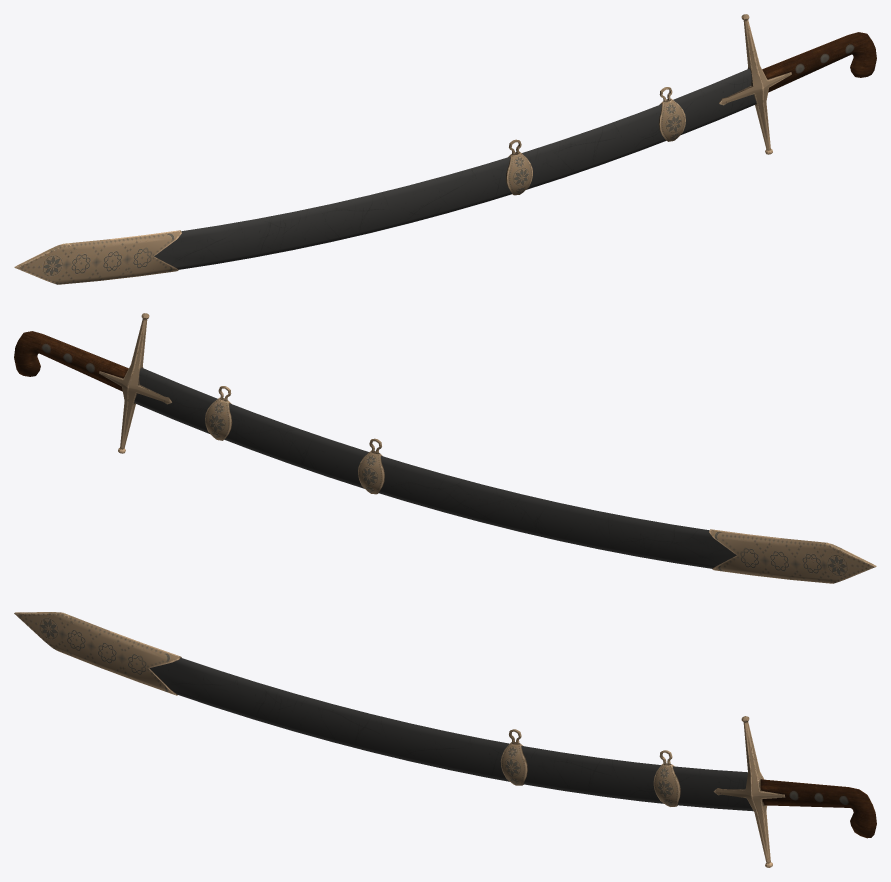
3 renders of one model, top to bottom at view 1: azimuth 30°, elevation 25°; view 2: azimuth 150°, elevation 25°; view 3: azimuth 330°, elevation 25°, orthographic.
Parts seen in each view (by area): view 1: Plane001; view 2: Plane001; view 3: Plane001.
Part boxes in pixels (bbox=[...]): Plane001: bbox=[14, 14, 876, 284]; Plane001: bbox=[14, 313, 876, 583]; Plane001: bbox=[14, 612, 876, 867].
Bounding box in the file's own units: 183 × 29.51 × 4.28.
1 material, 1 textured.
